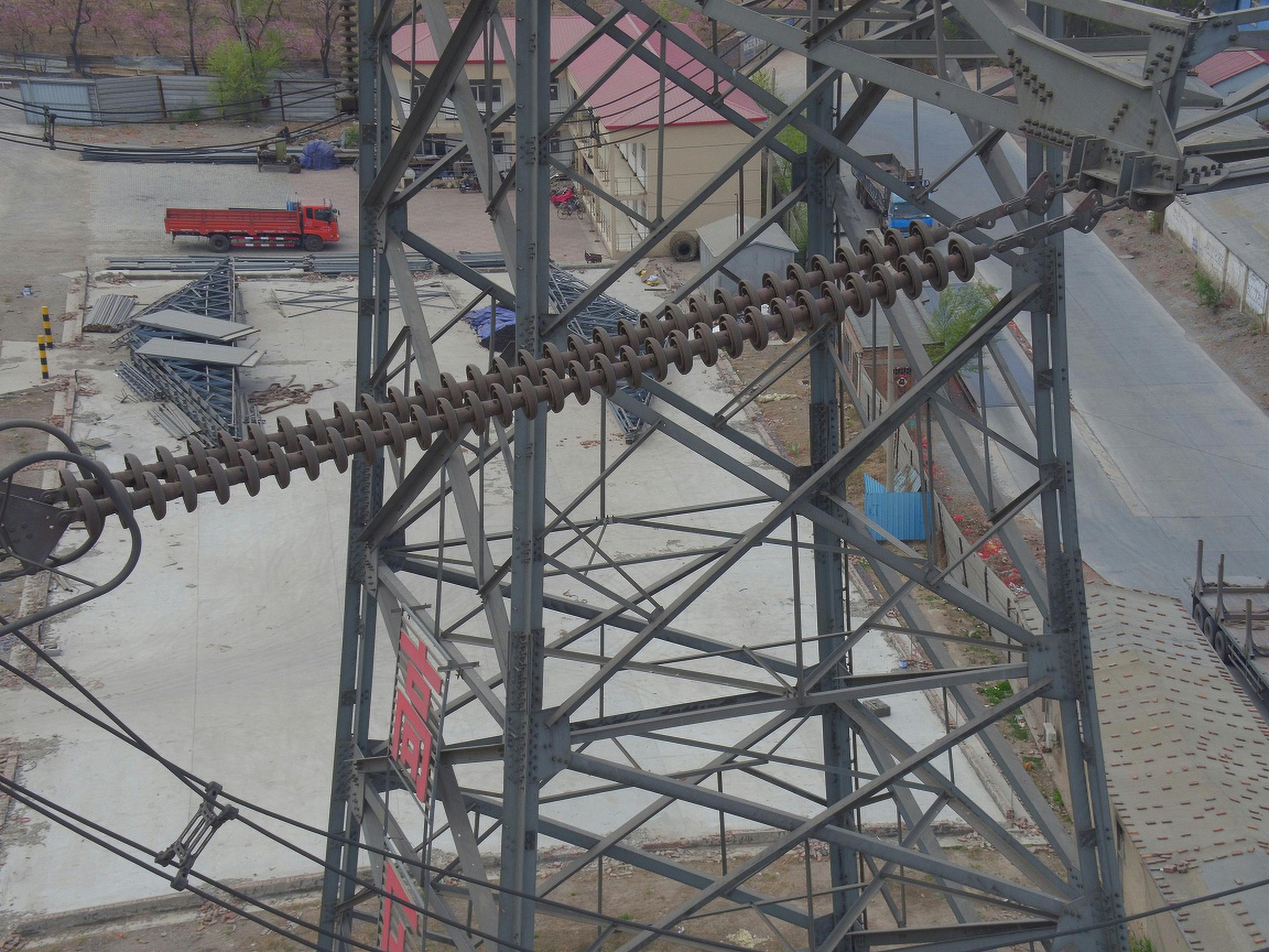insulator: (53, 215, 980, 545), (334, 1, 363, 91)
